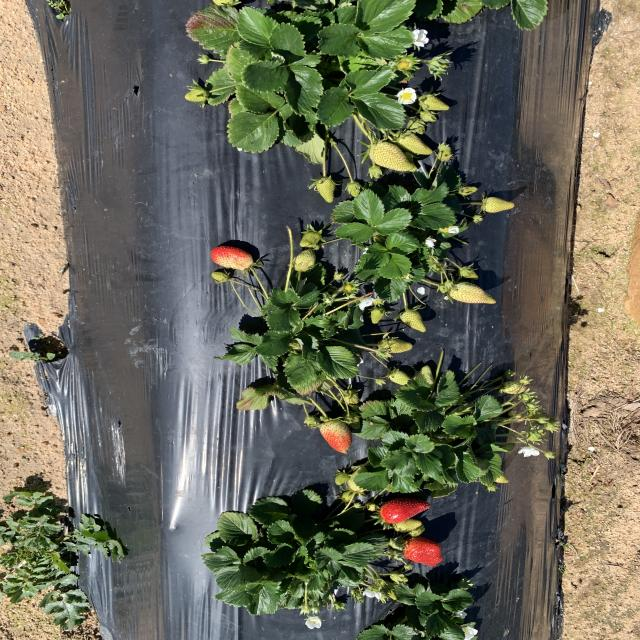unripe: (403, 535, 445, 566), (381, 497, 431, 523), (210, 245, 256, 269)
